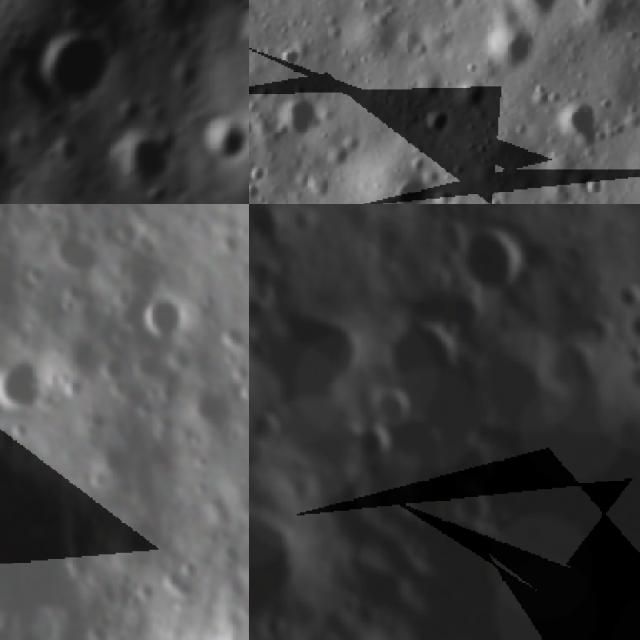crater: (349, 349, 640, 640), (249, 505, 306, 631), (33, 32, 120, 113), (458, 222, 532, 298), (550, 86, 620, 158), (482, 10, 548, 78), (176, 379, 240, 434), (46, 220, 104, 276), (0, 356, 52, 416), (272, 89, 328, 144), (121, 126, 168, 183), (142, 287, 188, 342), (199, 118, 248, 168), (497, 0, 583, 28), (413, 90, 462, 138), (388, 163, 442, 204), (354, 420, 391, 474), (380, 382, 418, 431), (454, 484, 492, 528), (249, 204, 288, 246), (0, 234, 23, 301), (94, 348, 134, 384), (274, 36, 310, 75), (250, 410, 290, 444), (132, 348, 170, 381), (613, 278, 640, 310), (620, 306, 640, 342), (477, 204, 517, 212)
